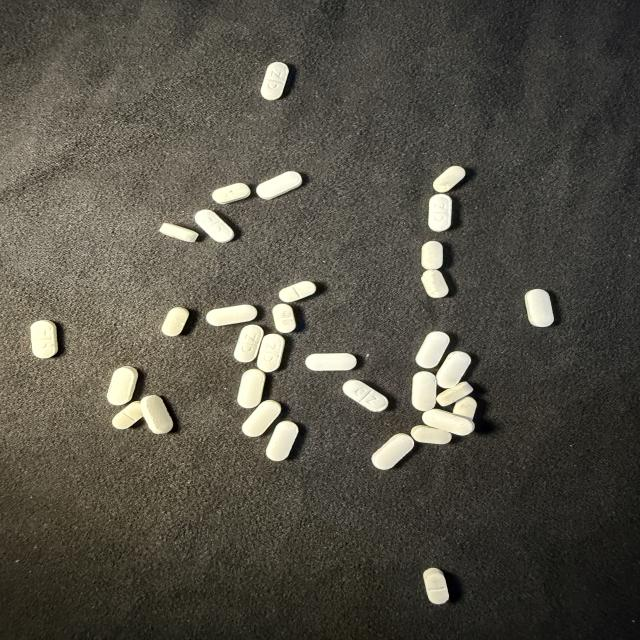pill: (242, 400, 281, 437), (343, 380, 388, 412), (372, 434, 413, 469), (423, 409, 474, 435), (256, 171, 302, 199), (266, 421, 298, 461), (195, 210, 234, 242), (416, 331, 449, 368), (437, 351, 470, 388), (107, 366, 138, 405), (141, 395, 172, 434), (233, 324, 264, 362), (206, 305, 257, 326), (525, 289, 553, 327), (238, 369, 265, 408), (257, 334, 284, 372), (261, 62, 288, 100), (31, 320, 57, 358), (412, 372, 436, 411), (428, 194, 452, 231), (433, 166, 465, 193), (424, 568, 448, 604), (436, 382, 472, 406), (112, 401, 142, 429), (306, 354, 357, 370), (212, 183, 250, 204), (162, 307, 189, 336), (279, 281, 316, 302), (422, 270, 448, 298), (411, 426, 451, 444), (159, 224, 198, 242), (273, 304, 296, 332), (421, 241, 443, 269), (453, 396, 476, 420)
